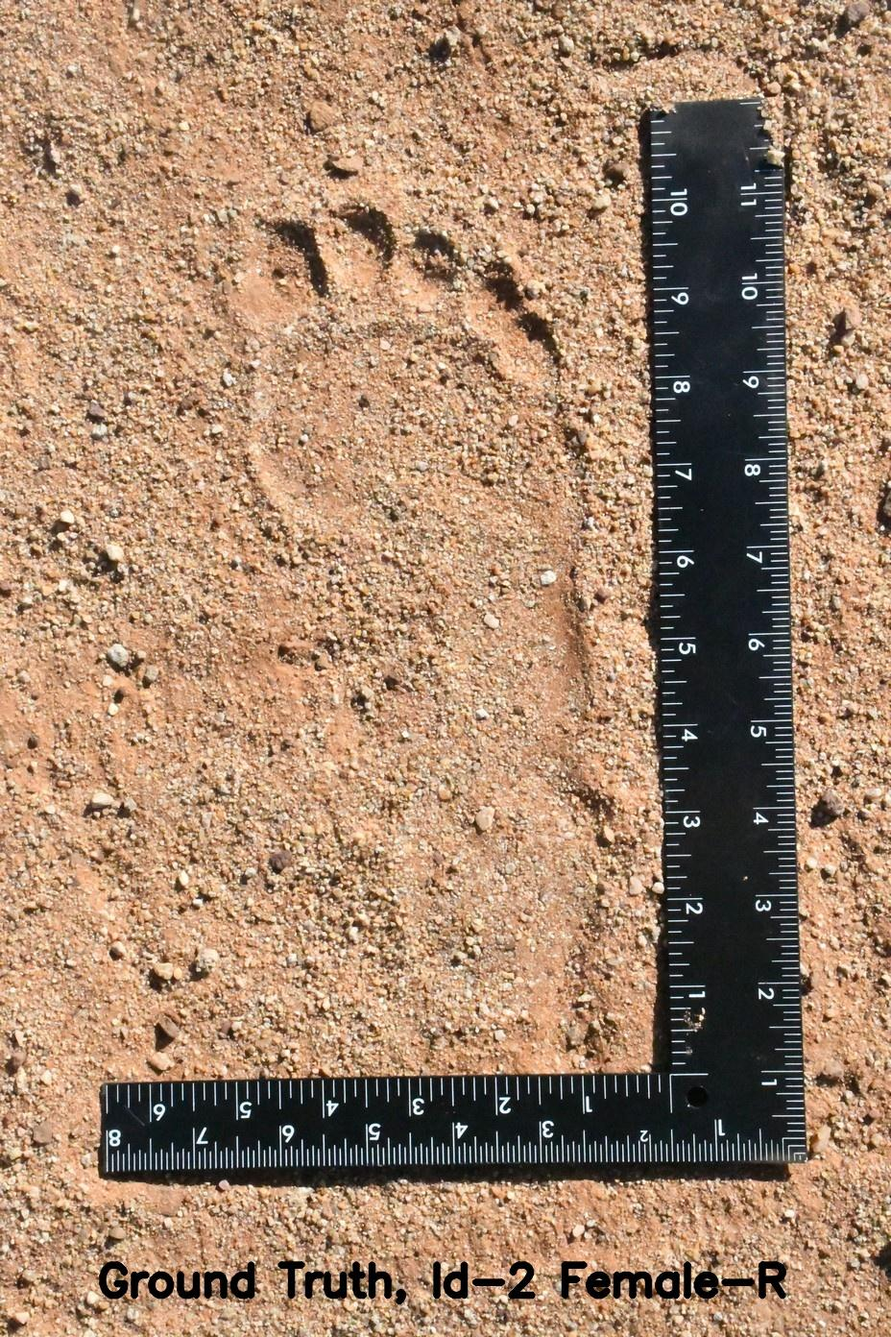human_foot_print: (199, 161, 631, 1053)
